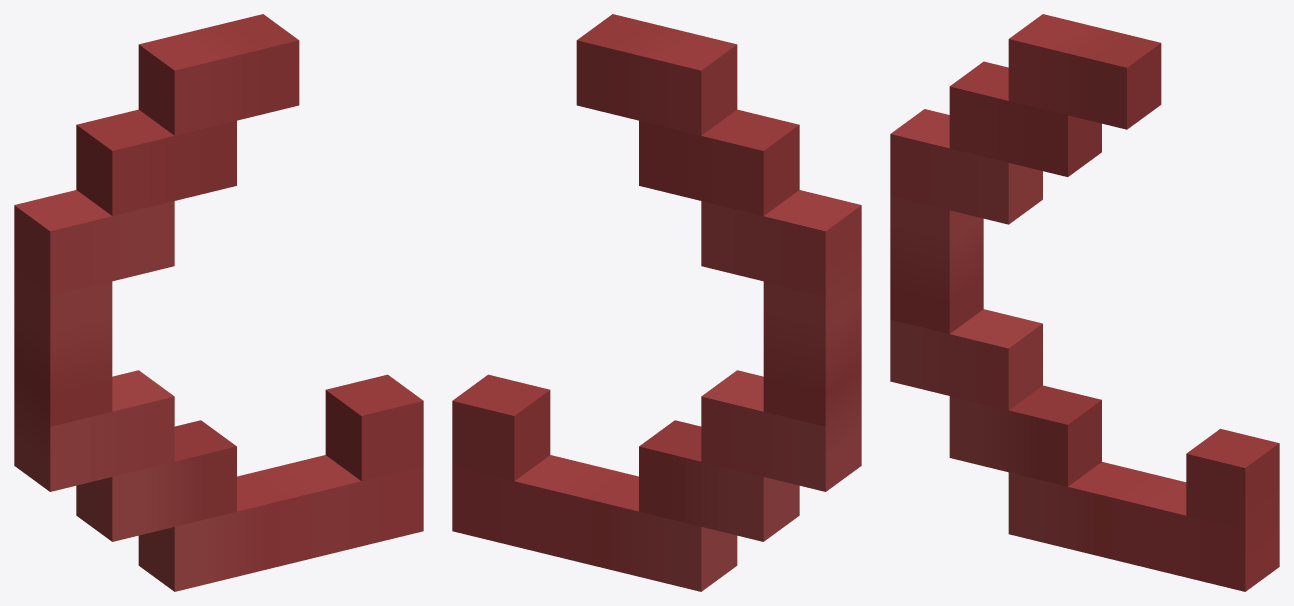
Rendered from Altar_BloodMeter_7.fbx.
3 renders of one model, left to right at view 1: azimuth 30°, elevation 25°; view 2: azimuth 150°, elevation 25°; view 3: azimuth 330°, elevation 25°, orthographic. The views are drawn at different scales.
Visible parts, largest first — view 1: Altar_BloodMeter_7; view 2: Altar_BloodMeter_7; view 3: Altar_BloodMeter_7.
Boxes of the visible parts, x1,y1,x2,y2 form: Altar_BloodMeter_7: [14, 14, 423, 591]; Altar_BloodMeter_7: [452, 14, 861, 591]; Altar_BloodMeter_7: [890, 14, 1279, 591].
Size of the model in its own units: 6 by 8 by 1.
1 material, 1 textured.
